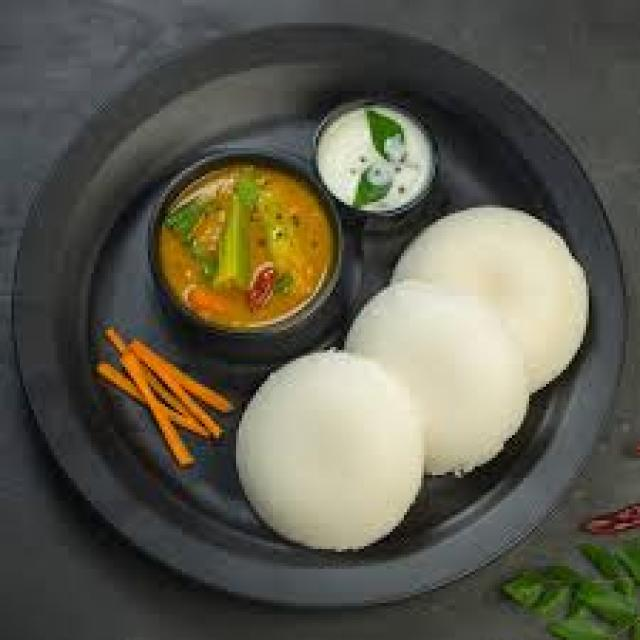IDLI: (239, 350, 421, 546), (390, 210, 583, 390), (347, 282, 521, 472)
